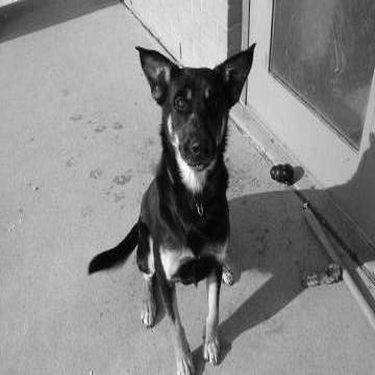dog: (79, 23, 267, 373)
